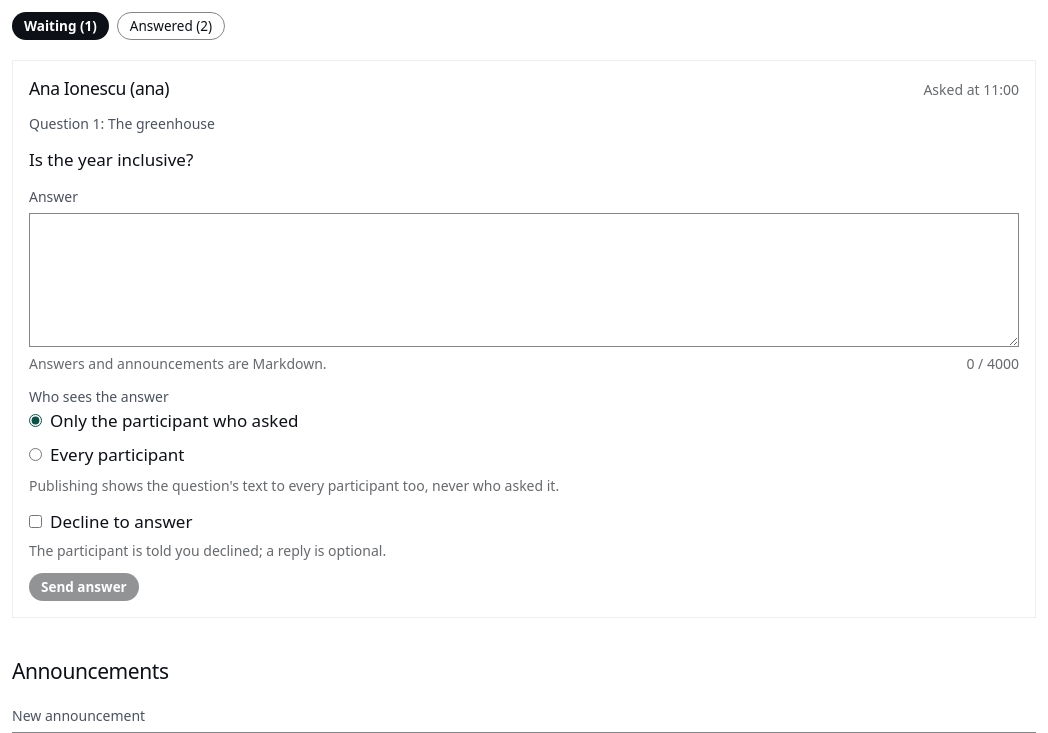
Test: the staff desk › redraws the navigation when the number waiting changes, and only then
Type "Yes." into the text box labelled "Answer".
click(524, 280); type("Yes.")  # box left=29, top=213, right=1019, bottom=347
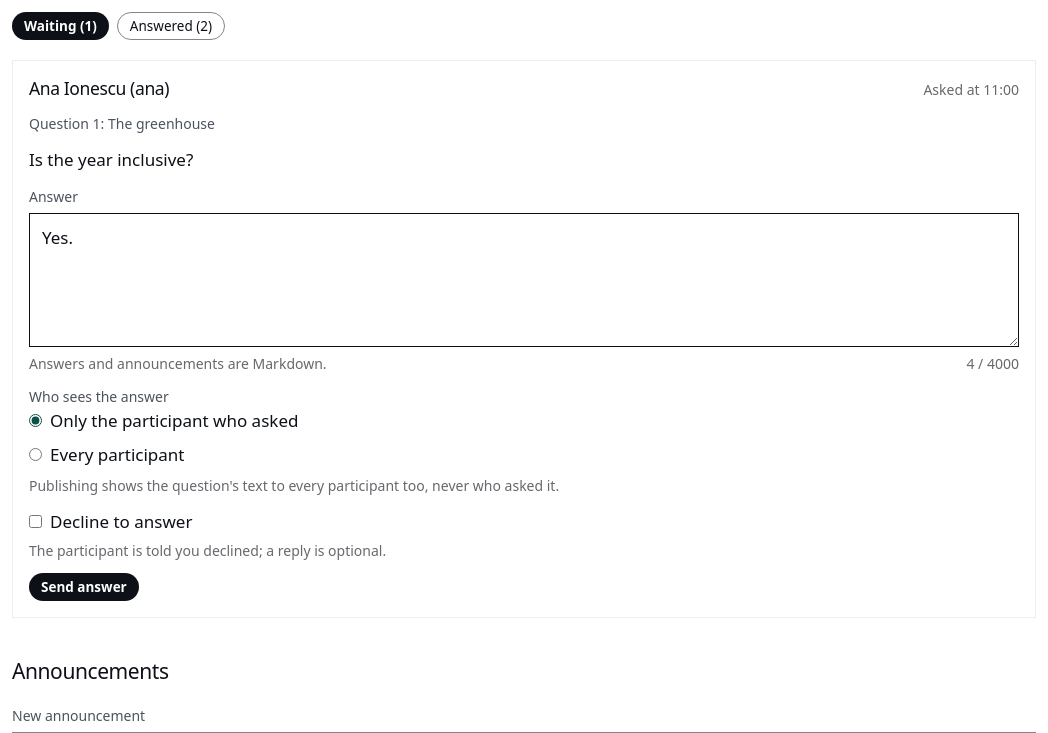
Click the button "Send answer".
click(84, 587)  # box left=29, top=573, right=139, bottom=601
Wait 5000 ms
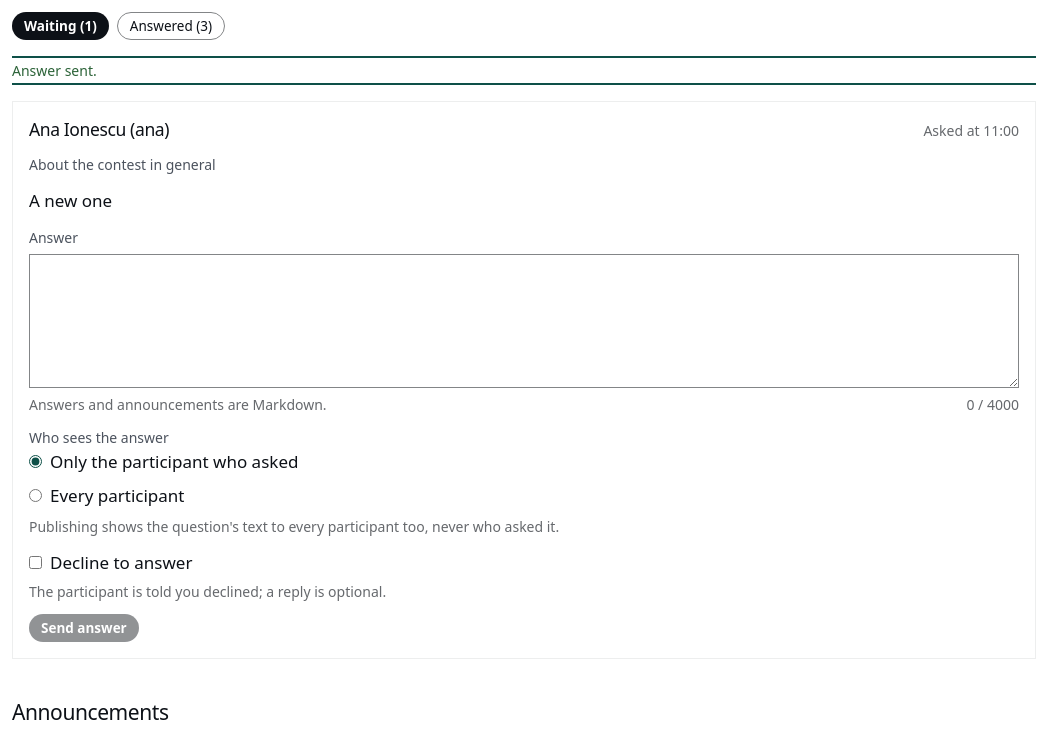
Check: the text "Answer sent." is shown, box left=12, top=61, right=97, bottom=80
Check: the text "A new one" is shown, box left=29, top=189, right=112, bottom=212
